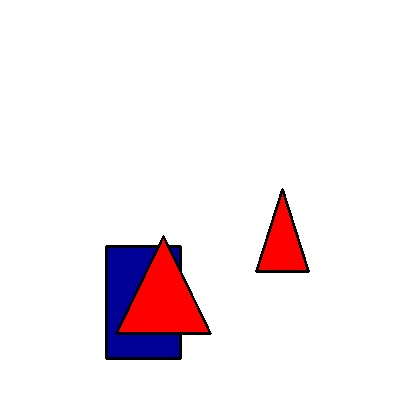rectangle: (106, 246, 180, 358)
triangle: (116, 236, 210, 333), (256, 189, 308, 271)
